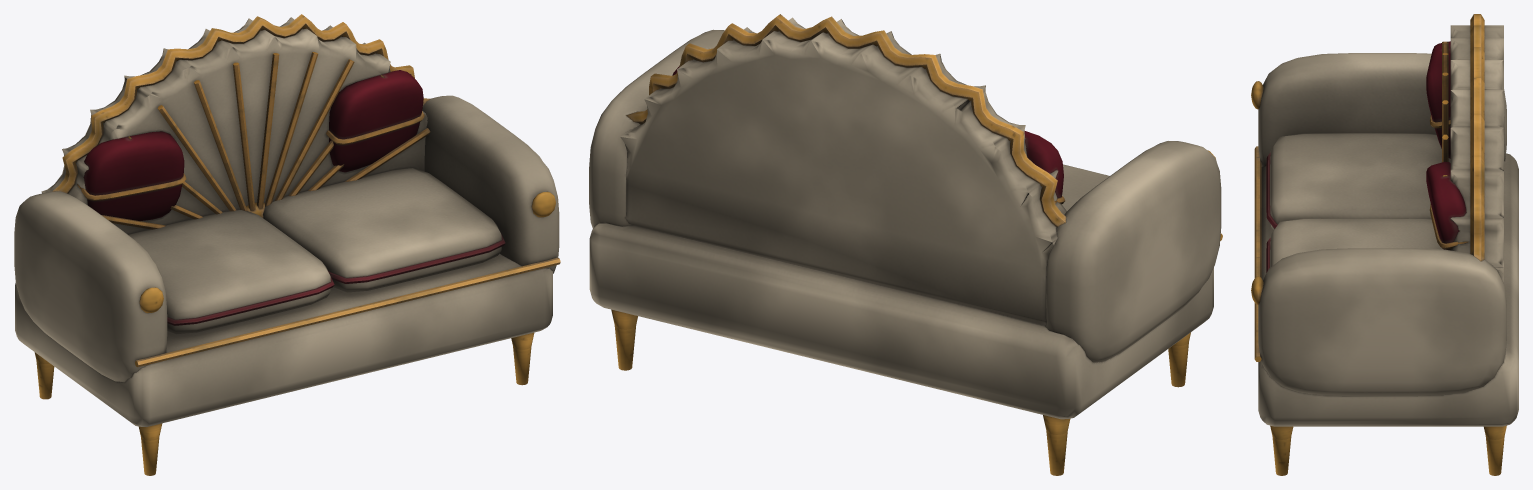
File: ShellLoveseat.fbx
The picture shows the model from 3 angles, left to right: view 1: azimuth 30°, elevation 25°; view 2: azimuth 150°, elevation 25°; view 3: azimuth 270°, elevation 25°; orthographic projection. The views are drawn at different scales.
Parts seen in each view (by area): view 1: ShellLoveseat; view 2: ShellLoveseat; view 3: ShellLoveseat.
Boxes of the visible parts, <box> form: ShellLoveseat: <box>14,14,560,475</box>; ShellLoveseat: <box>589,14,1222,475</box>; ShellLoveseat: <box>1251,14,1518,475</box>.
Size of the model in its own units: 440 by 319 by 226.
